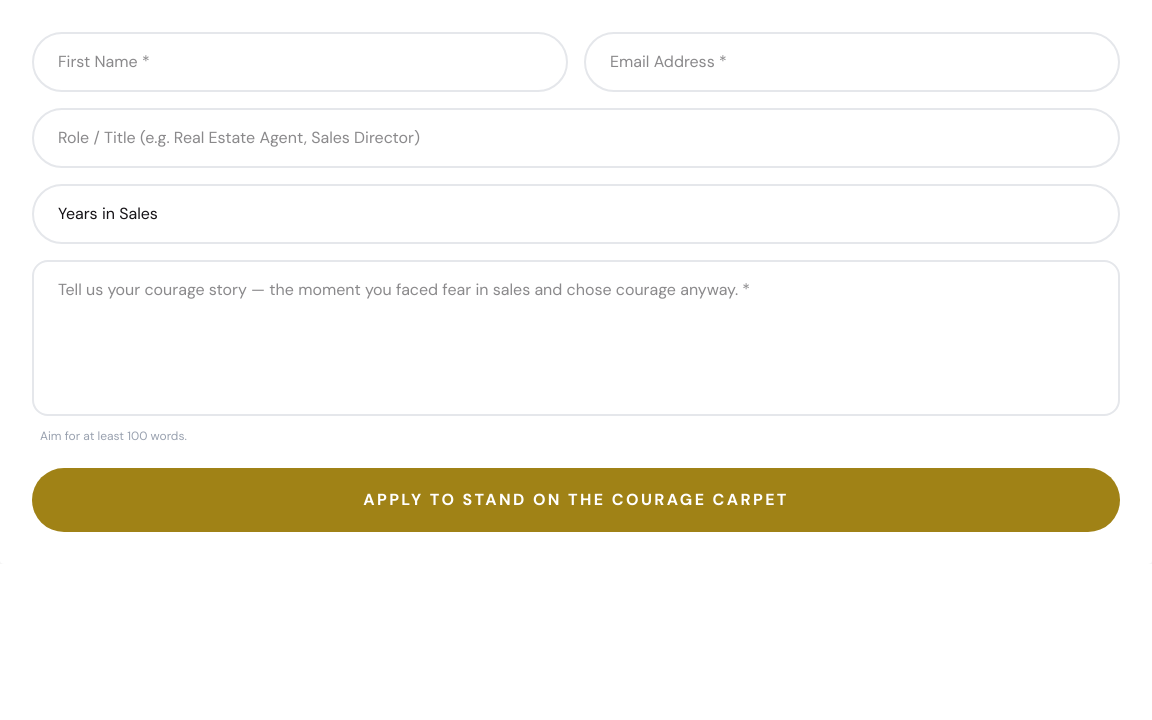
Test: FearXApplyForm component › loading state › shows 'Submitting...' while request is in-flight
In the field with placeholder "First Name *": [300, 62] box x1=32 y1=32 x2=568 y2=92, type "Jane"
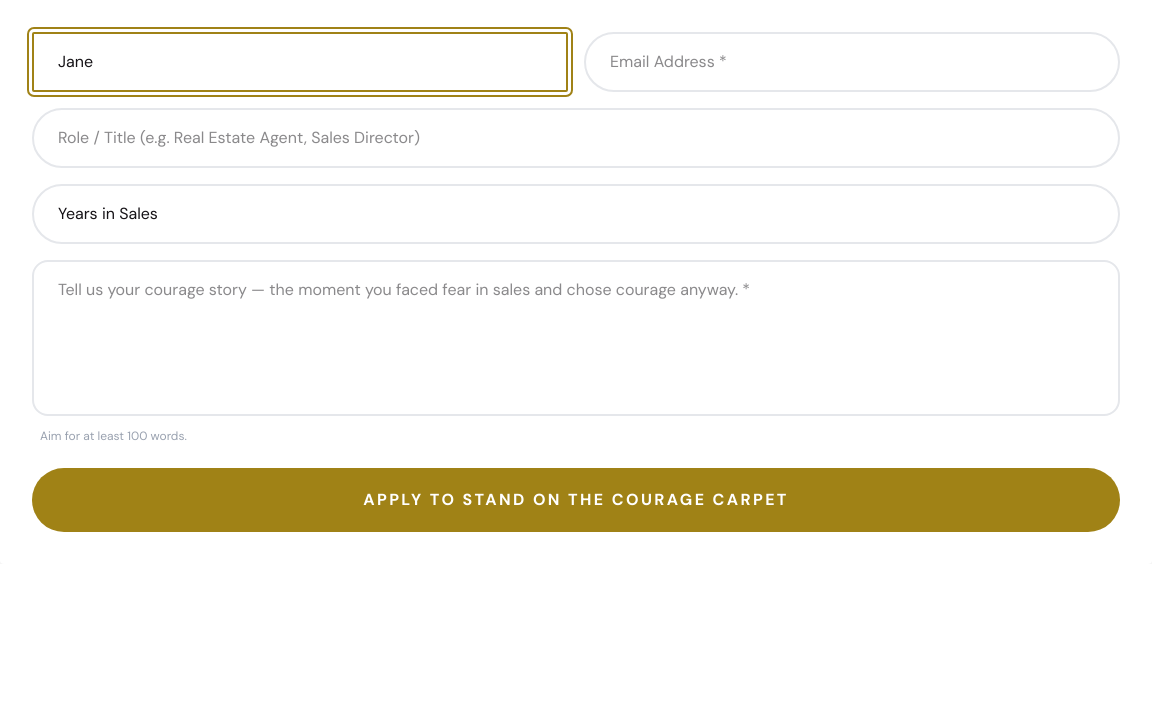
In the field with placeholder "Email Address *": [852, 62] box x1=584 y1=32 x2=1120 y2=92, type "jane@example.com"
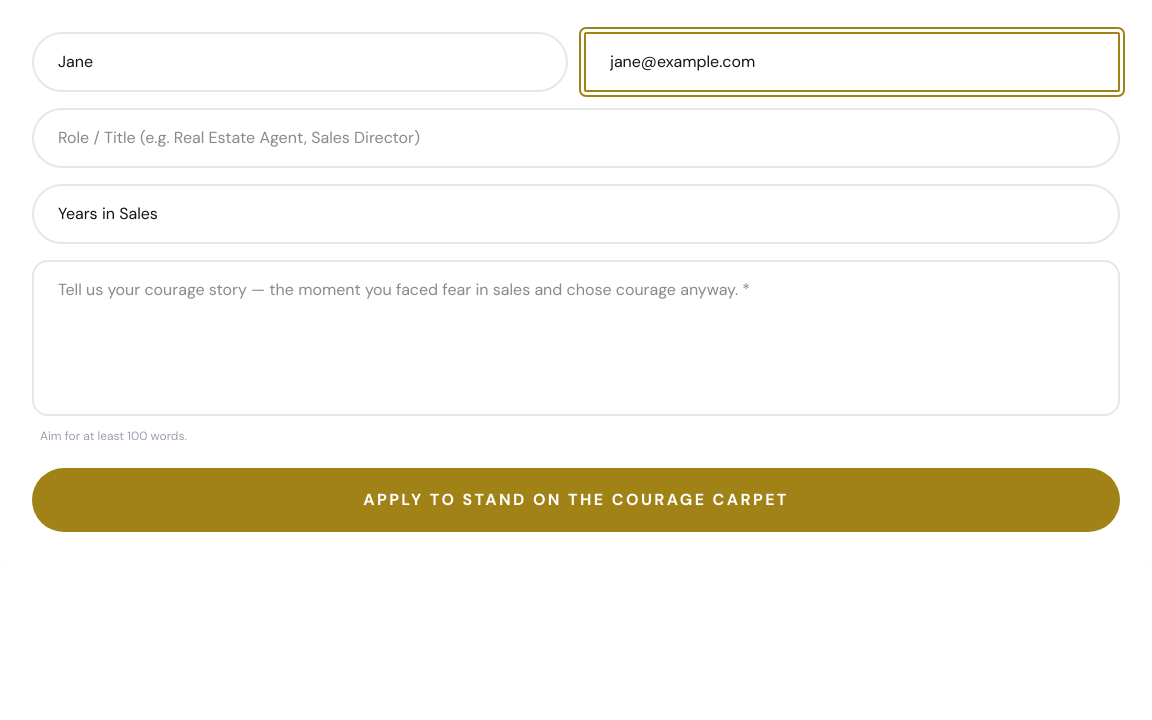
In the field with placeholder "Role / Title (e.g. Real Estate Agent, Sales Director)": [576, 138] box x1=32 y1=108 x2=1120 y2=168, type "Sales Director"
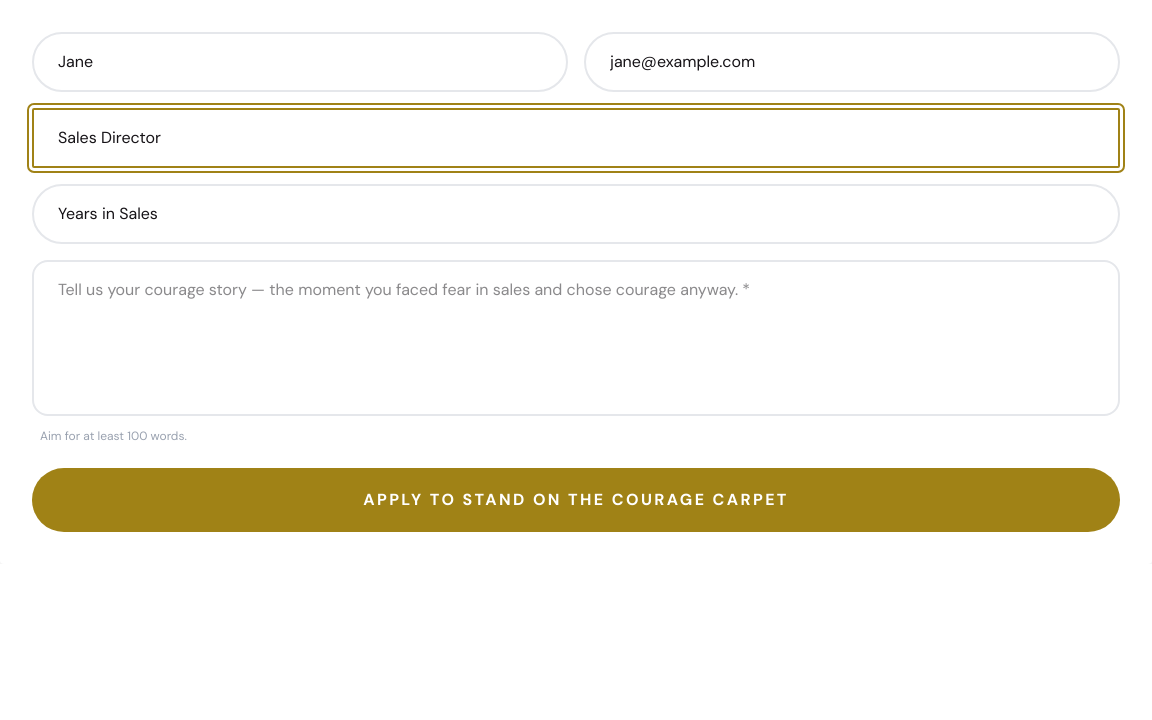
In the text box labelled "courage story": [576, 338] box x1=32 y1=260 x2=1120 y2=416, type "I faced fear every day for years and finally chose courage over comfort in a high-stakes deal."
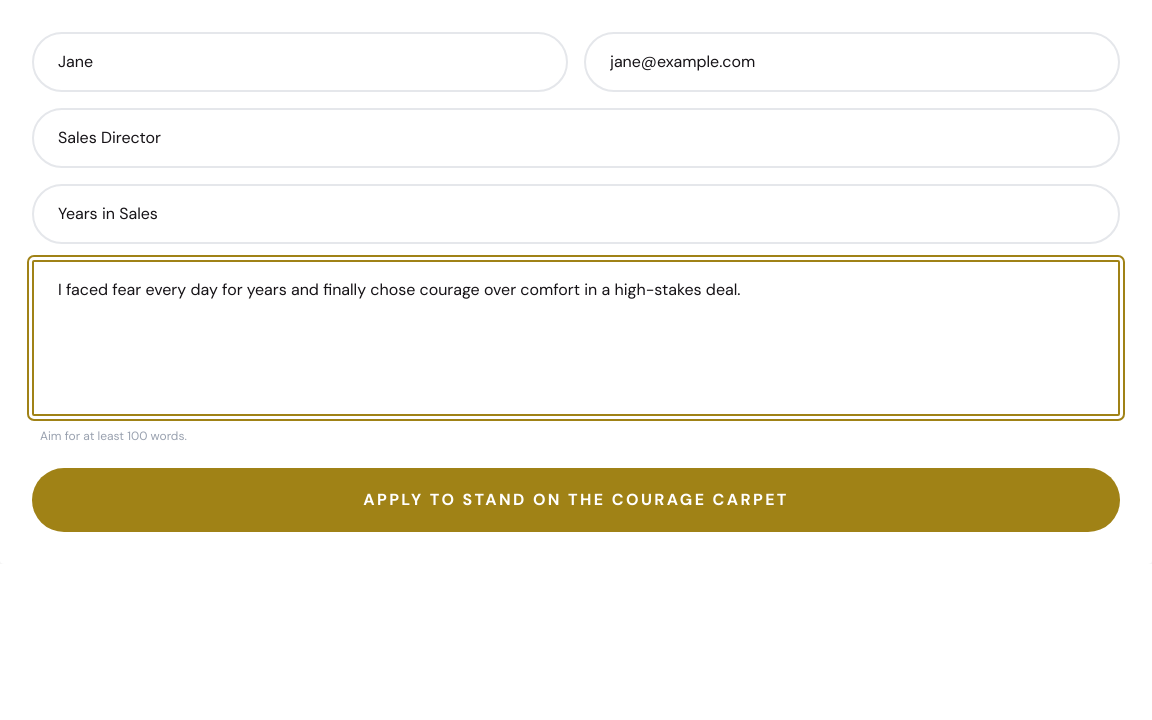
Click the button "Apply to Stand on the Courage Carpet": [576, 500] box x1=32 y1=468 x2=1120 y2=532
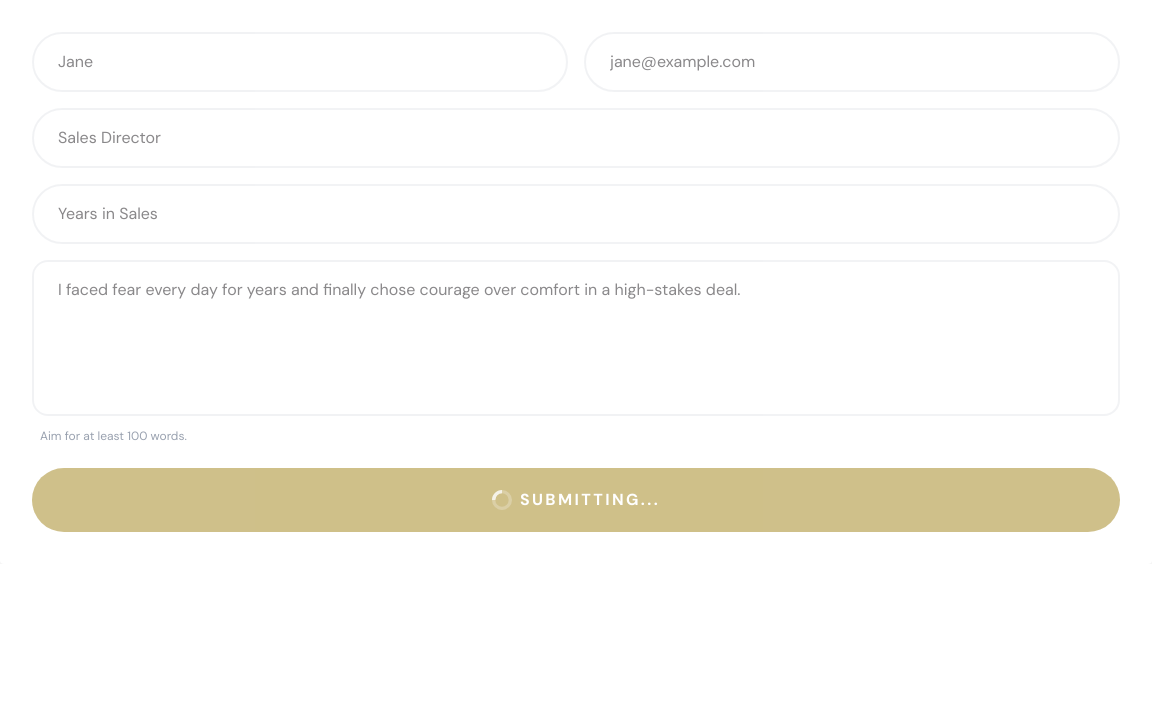
Result: the text "Submitting..." is shown at x1=492 y1=488 x2=660 y2=512
